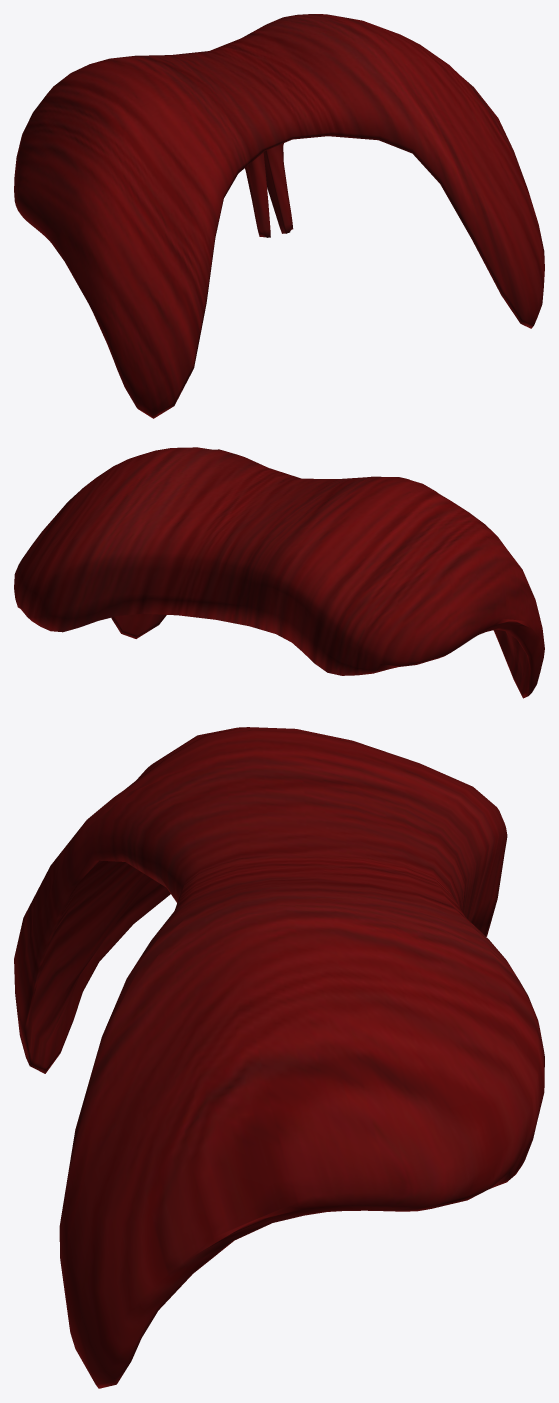
Rendered from diafragma.glb.
The picture shows the model from 3 angles, top to bottom: view 1: azimuth 30°, elevation 25°; view 2: azimuth 150°, elevation 25°; view 3: azimuth 270°, elevation 25°; orthographic projection. The views are drawn at different scales.
Parts seen in each view (by area): view 1: Plane001_01 - Default_0; view 2: Plane001_01 - Default_0; view 3: Plane001_01 - Default_0.
Part boxes in pixels (<box>): Plane001_01 - Default_0: <box>14,14,544,418</box>; Plane001_01 - Default_0: <box>14,447,544,698</box>; Plane001_01 - Default_0: <box>14,727,544,1388</box>.
Size of the model in its own units: 64.35 by 37.61 by 43.45.
1 material, 1 textured.
